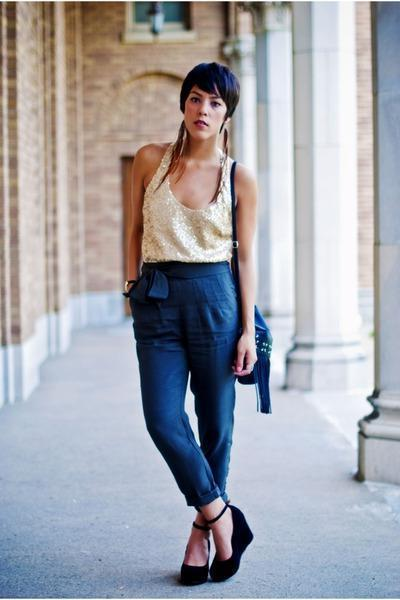trousers: (127, 263, 242, 514)
vest: (137, 139, 240, 267)
